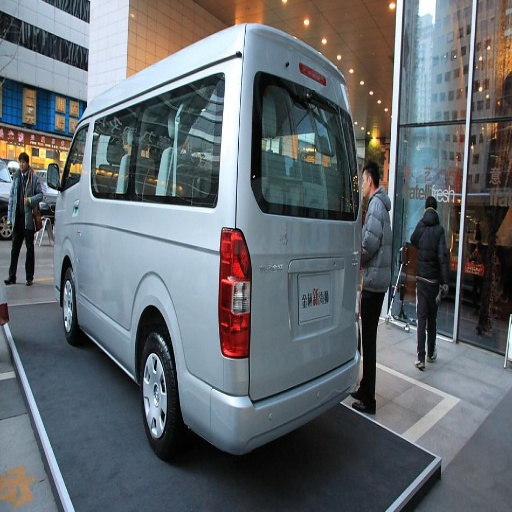back_bumper: (191, 365, 356, 451)
back_left_light: (218, 231, 250, 355)
trunk: (80, 203, 343, 396)
